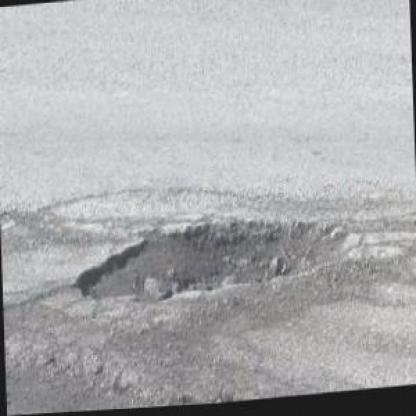pothole: (71, 200, 349, 312)
